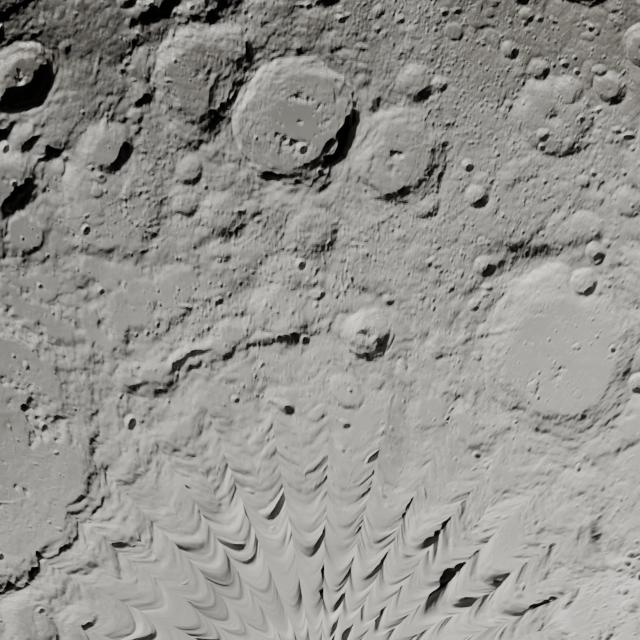crater: (152, 23, 252, 124), (352, 105, 442, 199), (67, 115, 139, 173), (0, 40, 54, 114), (335, 305, 396, 361), (192, 182, 250, 233), (551, 208, 607, 250), (6, 211, 48, 256), (1, 177, 38, 220), (393, 62, 433, 99), (327, 373, 366, 408), (590, 68, 626, 104), (5, 118, 41, 154), (174, 152, 205, 184), (611, 184, 640, 217), (464, 6, 499, 32), (472, 252, 502, 278), (622, 22, 640, 64), (169, 192, 200, 216), (570, 268, 598, 294), (462, 182, 488, 207), (267, 397, 297, 418), (526, 57, 551, 79), (579, 20, 602, 42), (350, 69, 371, 92), (611, 126, 636, 145), (499, 39, 520, 58), (442, 22, 464, 40), (122, 412, 140, 434), (562, 136, 580, 154), (57, 39, 74, 55), (535, 128, 551, 144), (526, 378, 542, 394), (89, 183, 106, 198), (590, 64, 608, 77), (518, 6, 534, 20), (370, 2, 385, 16), (632, 372, 640, 395), (577, 174, 591, 187), (295, 142, 309, 155), (294, 258, 308, 271), (336, 13, 351, 24), (393, 14, 406, 26), (80, 223, 92, 236), (313, 289, 326, 301), (439, 7, 452, 18), (626, 550, 639, 561), (575, 115, 587, 126), (213, 296, 225, 307), (300, 334, 311, 346), (570, 341, 581, 352), (538, 140, 548, 152), (21, 359, 31, 371), (1, 143, 11, 154), (10, 178, 20, 188), (230, 394, 240, 404), (473, 450, 482, 459), (609, 344, 617, 354), (97, 286, 105, 296), (295, 119, 304, 127), (36, 282, 44, 289), (19, 235, 26, 242), (546, 335, 552, 343), (6, 422, 12, 430), (11, 353, 17, 359)
